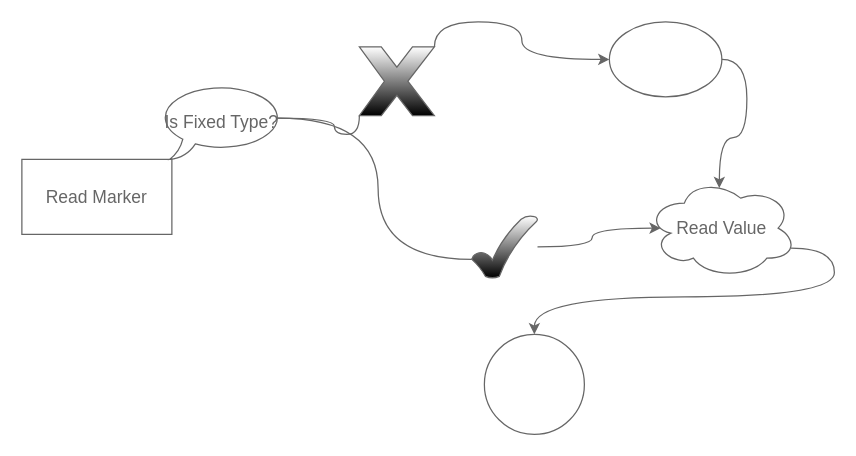
The diagram is 856 pixels wide and 456 high, and some of its shapes have lost their labels. Each missing label, with the box of its shape:
Payload: (483, 333, 584, 434)
Read Length: (608, 21, 722, 97)
